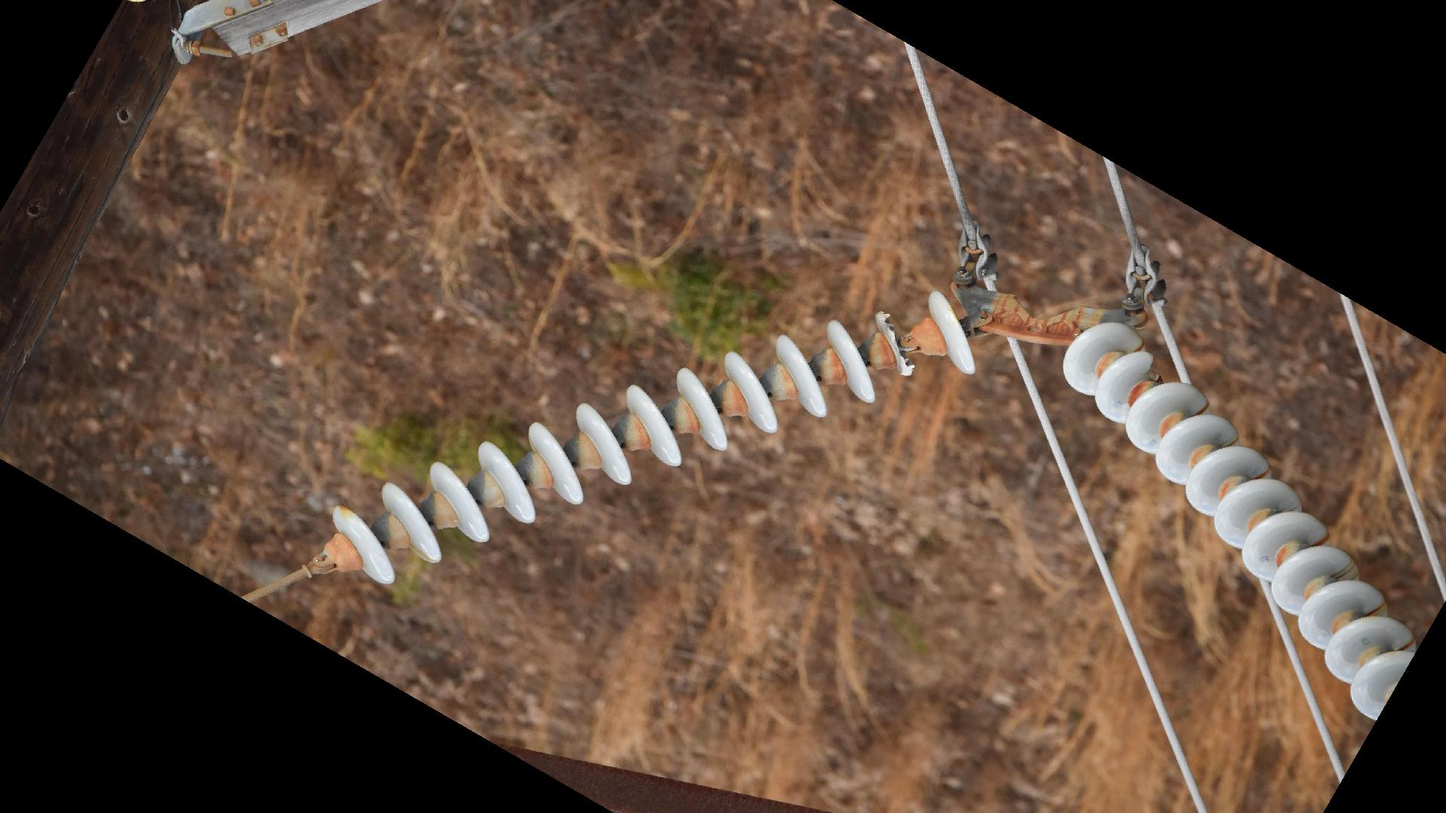insulator: (322, 284, 981, 591), (1054, 316, 1412, 725)
insulator_breakage: (861, 303, 920, 385)
